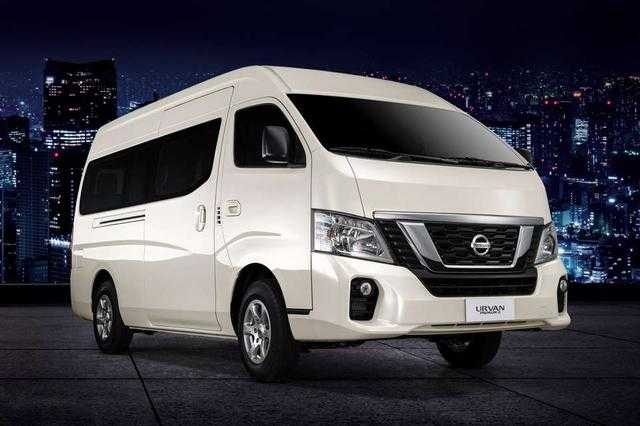van: (69, 63, 571, 382)
